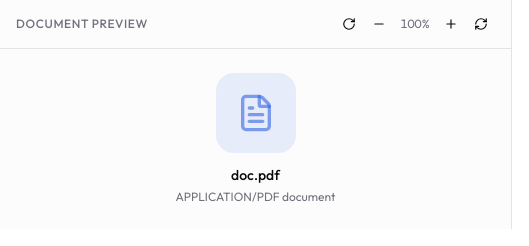
Test: DocumentPreview › resets zoom and rotation when reset view is clicked
Zoom in first
Click the button titled "zoom in": (451, 24) [437,10,465,38]
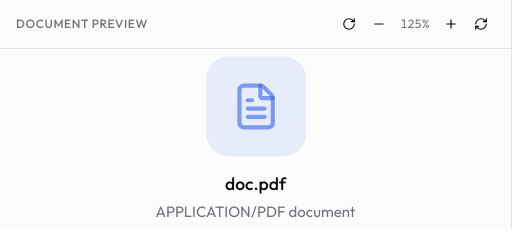
Now the text "125%" is shown, box [400,16,430,31]
Then reset
Click the button titled "reset view": (481, 24) [467,10,495,38]
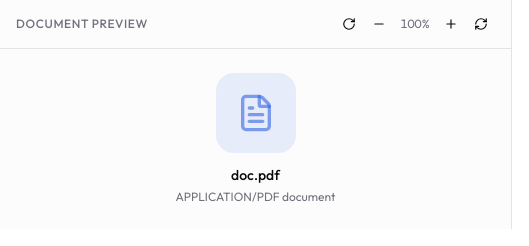
Now the text "100%" is shown, box [400,16,430,31]
